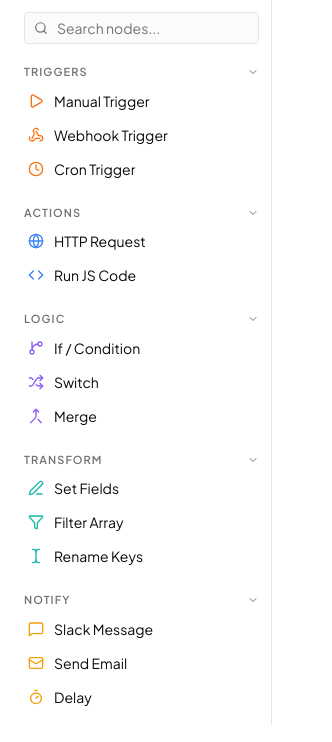
Test: NodePalette › expands a collapsed group on second click
What coordinates should you click on to do the following:
click the button "Triggers"
I would click on:
 (142, 70)
Its box is [12,56,271,84].
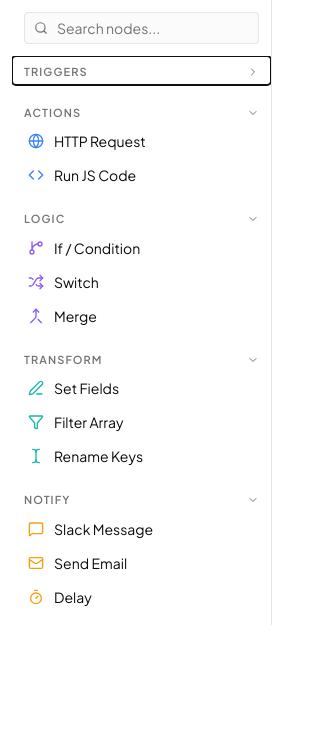
What coordinates should you click on to do the following:
click the button "Triggers"
I would click on:
 (142, 70)
Its box is [12,56,271,84].
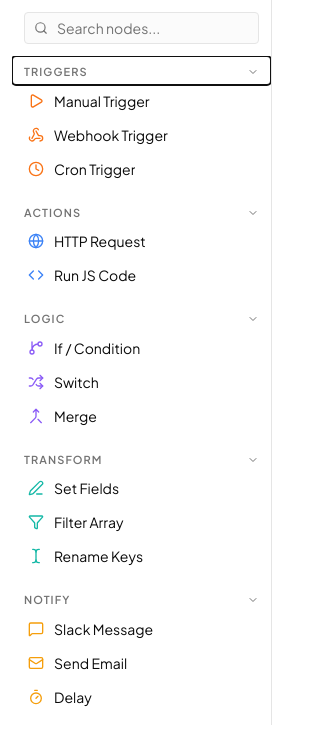
Expected: the text "Manual Trigger" is shown, [54,90,150,110]
